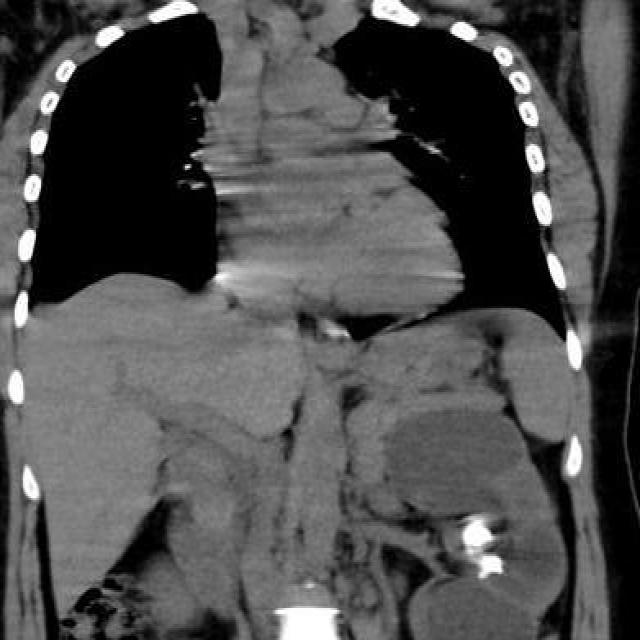Tas_Var: (461, 518, 497, 552), (476, 552, 506, 584)
